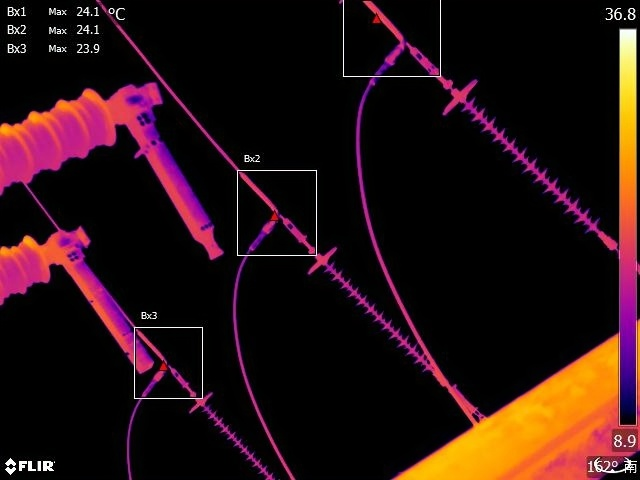clamp: (259, 189, 293, 235), (379, 31, 415, 69), (152, 346, 179, 380)
insulator: (446, 65, 615, 253), (303, 223, 453, 393), (187, 382, 284, 480)
post insulator: (1, 84, 113, 193), (1, 227, 47, 312)
switch: (112, 72, 228, 265), (47, 216, 158, 377)
